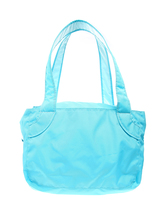bag: (21, 19, 146, 192)
